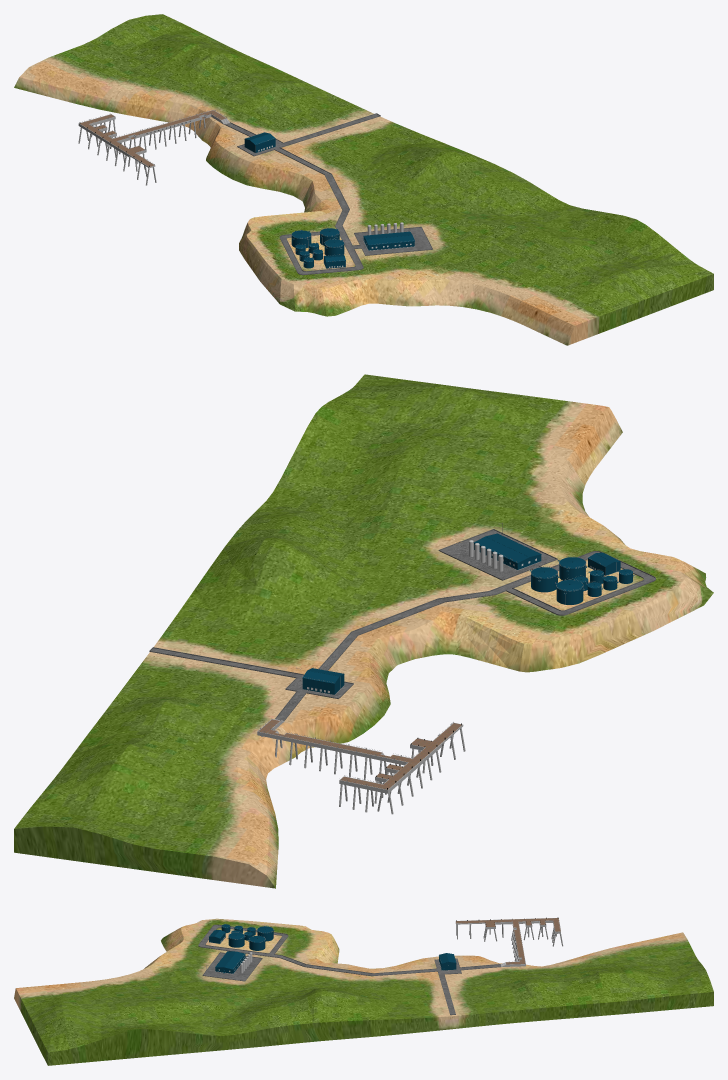
Rendered from Static.glb.
3 renders of one model, top to bottom at view 1: azimuth 30°, elevation 25°; view 2: azimuth 150°, elevation 25°; view 3: azimuth 270°, elevation 25°, orthographic. The views are drawn at different scales.
Visible parts, largest first — view 1: Static; view 2: Static; view 3: Static.
Part boxes in pixels (left/top/right/bottom): Static: left=14, top=14, right=713, bottom=345; Static: left=14, top=374, right=713, bottom=888; Static: left=14, top=917, right=713, bottom=1065.
Bounding box in the file's own units: 54.83 × 6.31 × 118.
9 materials, 3 textured.
